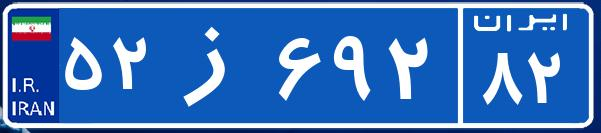2: (385, 28, 445, 110), (110, 28, 158, 105), (525, 38, 570, 115)
5: (57, 26, 110, 107)
6: (273, 28, 330, 110)
8: (475, 38, 525, 113)
9: (330, 28, 385, 110)
ز: (158, 15, 273, 115)
